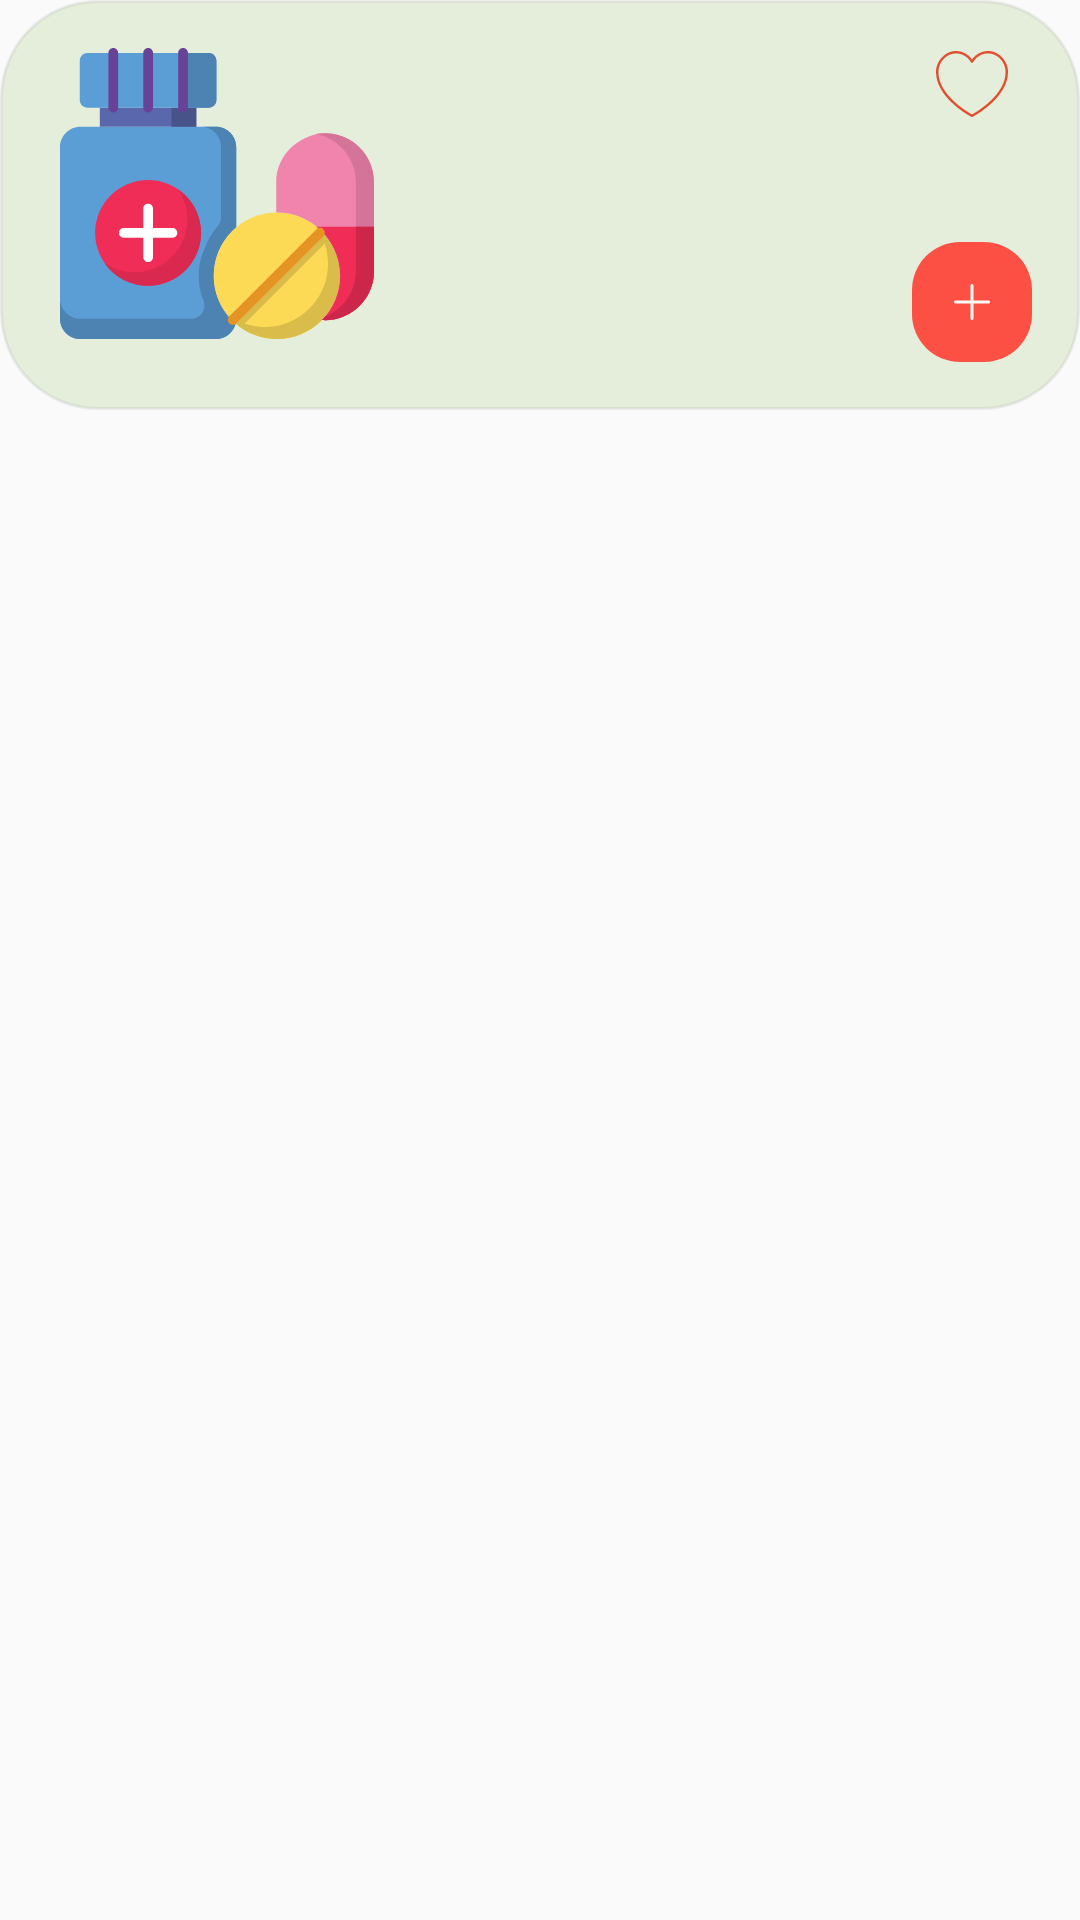

Named icons in this screenshot (1080x1920) and their centers, [x,y]:
add ws: [972,302]
heartsmoth: [972,84]
paracetamol: [217,193]
